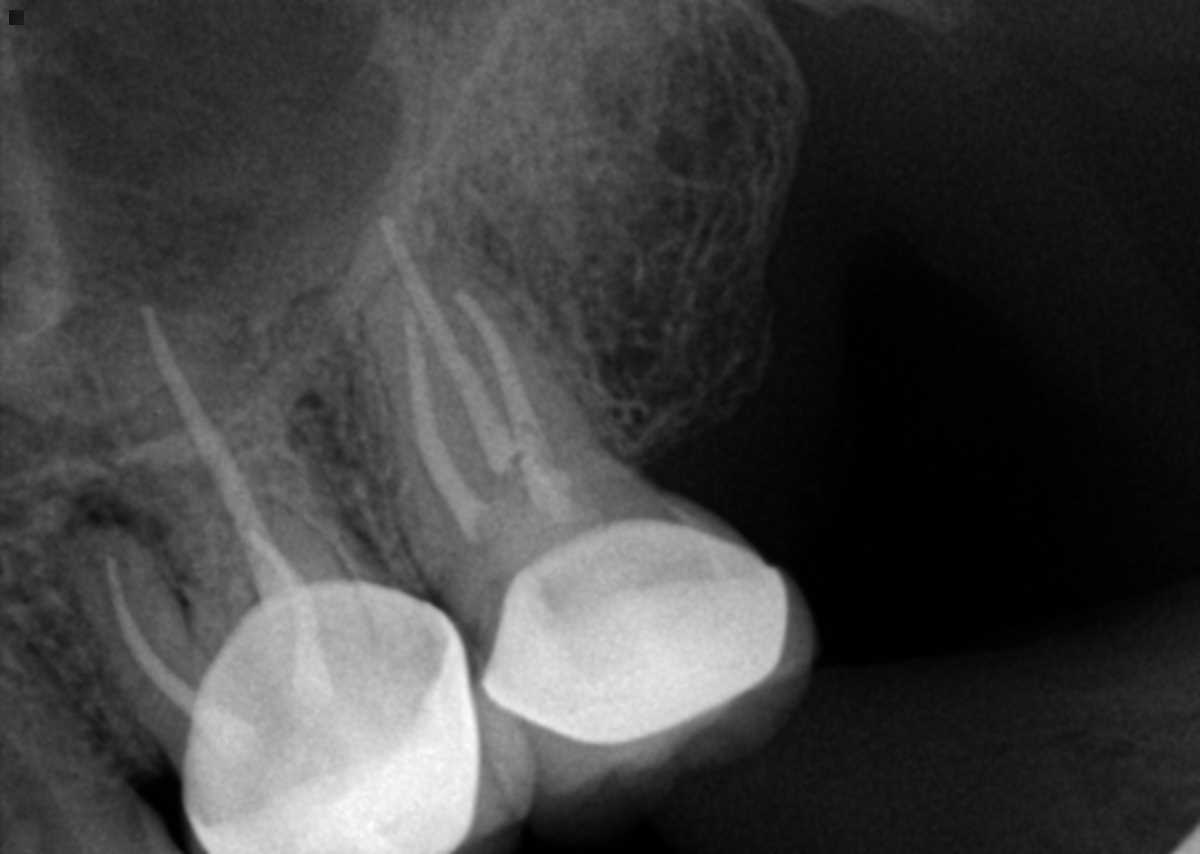Apical Lesion: (45, 473, 184, 609)
Distal Root: (448, 271, 656, 550), (220, 477, 368, 729)
Mesial Root: (357, 256, 544, 622), (72, 526, 283, 809)
Palatal Root: (346, 169, 612, 644), (100, 278, 390, 652)
Root Canal Filling: (141, 301, 307, 626), (380, 220, 516, 478), (104, 557, 262, 765), (453, 285, 591, 523), (404, 300, 496, 546), (252, 530, 334, 702)
